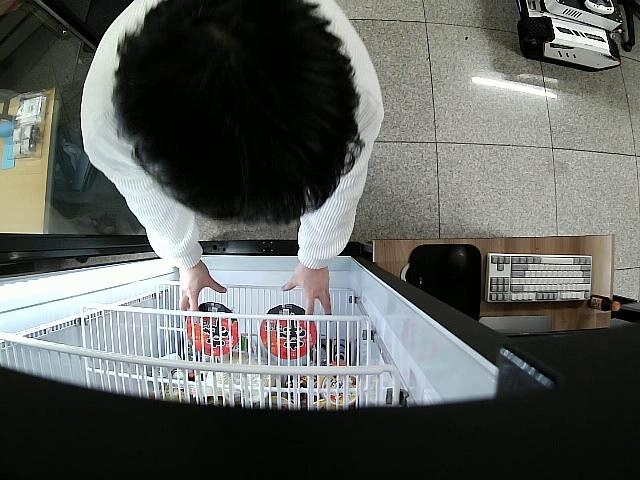00_hand: (283, 261, 331, 332), (178, 269, 227, 314)
01_shinRamen_L: (261, 305, 319, 359), (187, 299, 239, 355)
